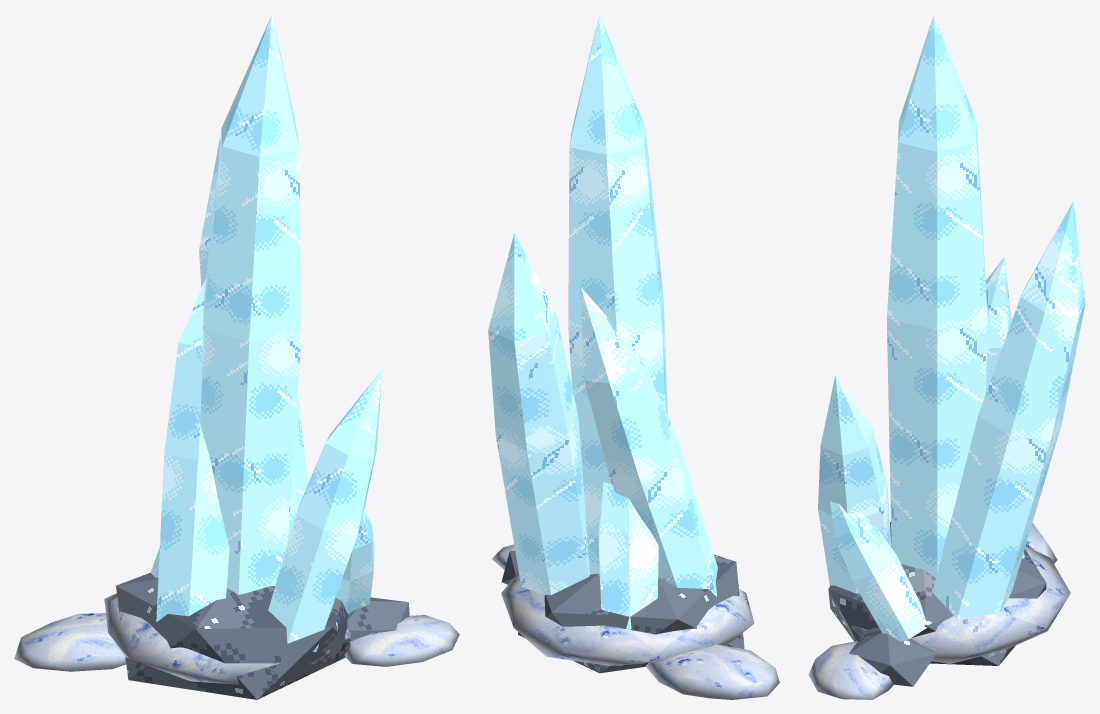
Rendered from glacier_spire.glb.
3 renders of one model, left to right at view 1: azimuth 30°, elevation 25°; view 2: azimuth 150°, elevation 25°; view 3: azimuth 270°, elevation 25°, orthographic. The views are drawn at different scales.
Parts seen in each view (by area): view 1: Spire, Foot, Snow; view 2: Spire, Snow, Foot; view 3: Spire, Snow, Foot.
Part boxes in pixels (x1,y1,x2,y2): Spire: (150,14,382,652); Foot: (116,572,409,699); Snow: (14,593,459,684); Spire: (488,14,717,629); Snow: (492,544,779,699); Foot: (501,550,744,673); Spire: (818,14,1085,641); Snow: (808,523,1070,699); Foot: (828,522,1046,686).
Size of the model in its own units: 4.49 by 7.56 by 3.03.
Materials: 3 (3 with a texture image).
